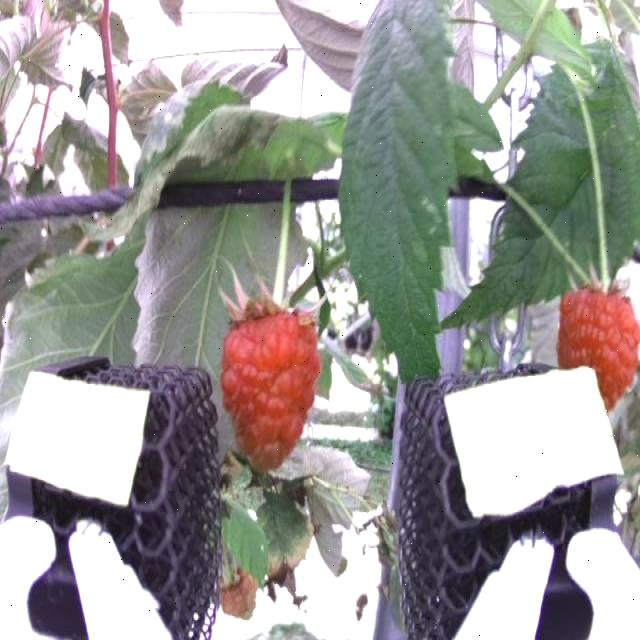Riped berries: (216, 292, 322, 472), (558, 272, 640, 403)
